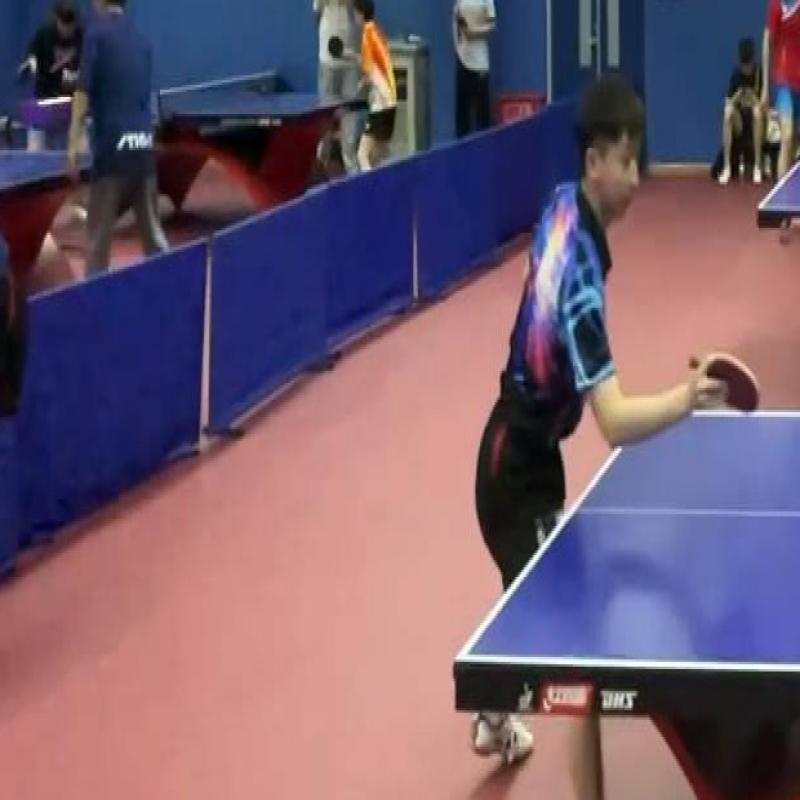bats: (689, 337, 765, 427)
